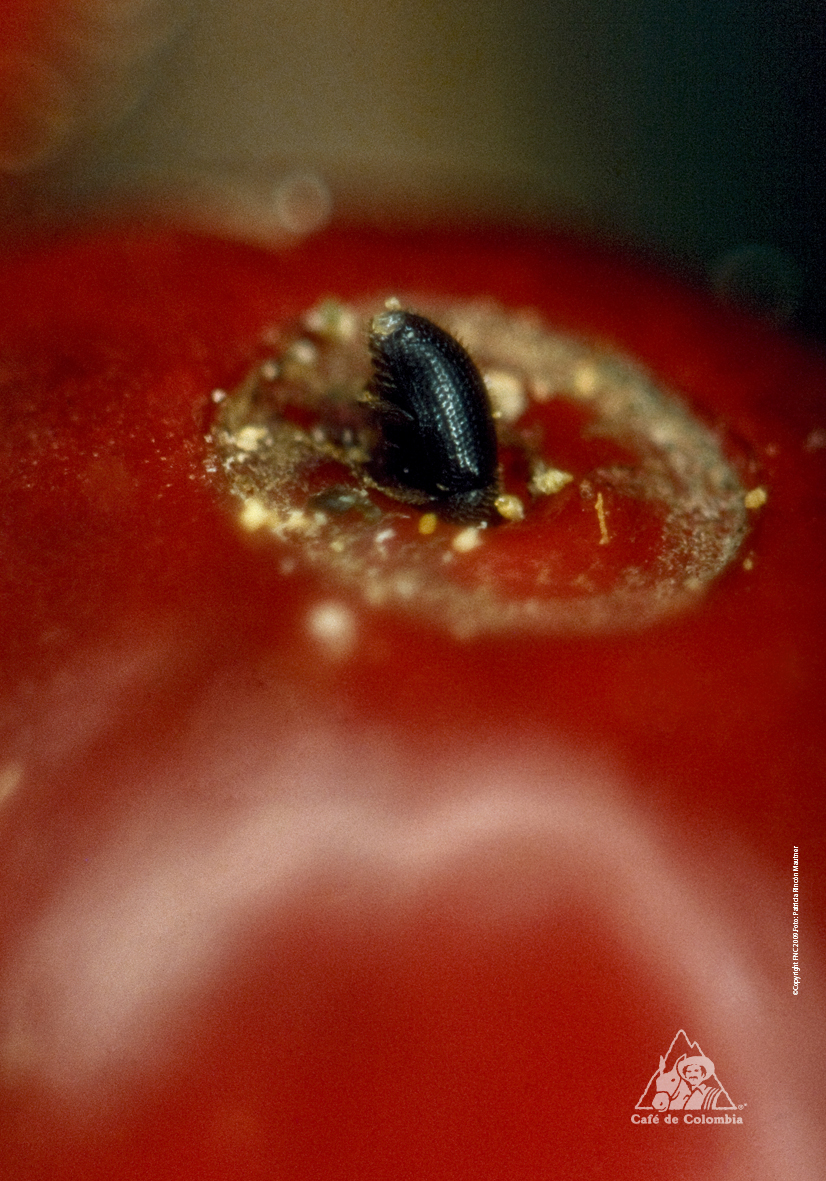broca de cafe: (227, 171, 752, 924)
